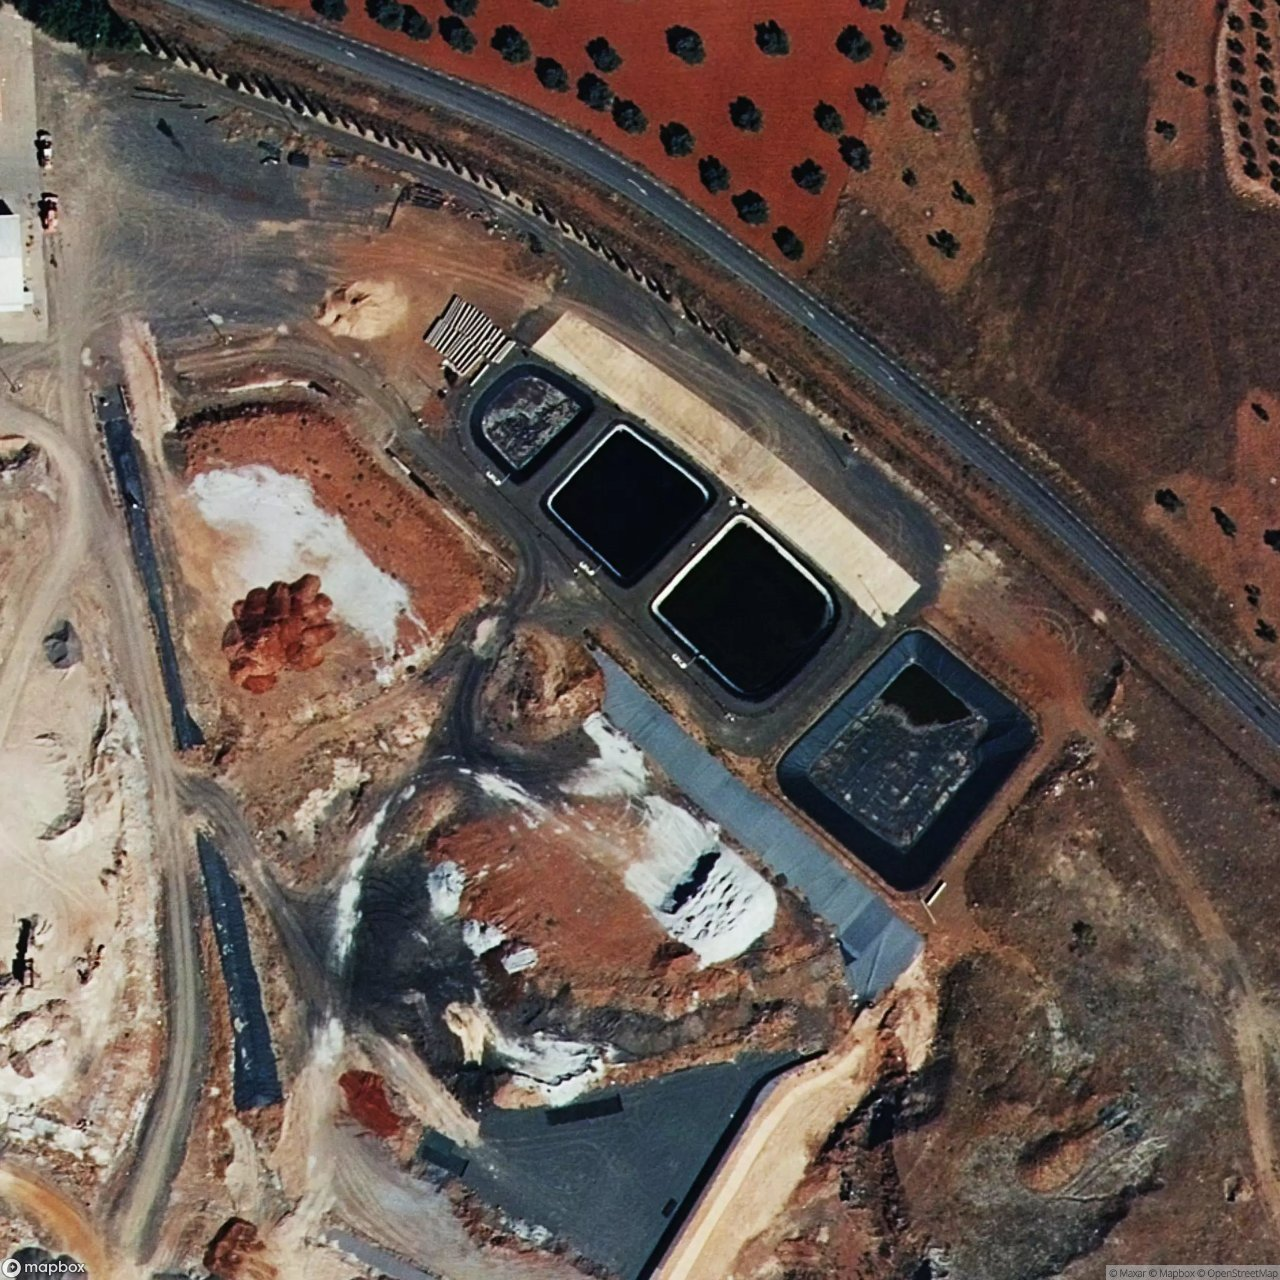dump_site: (482, 367, 578, 465)
